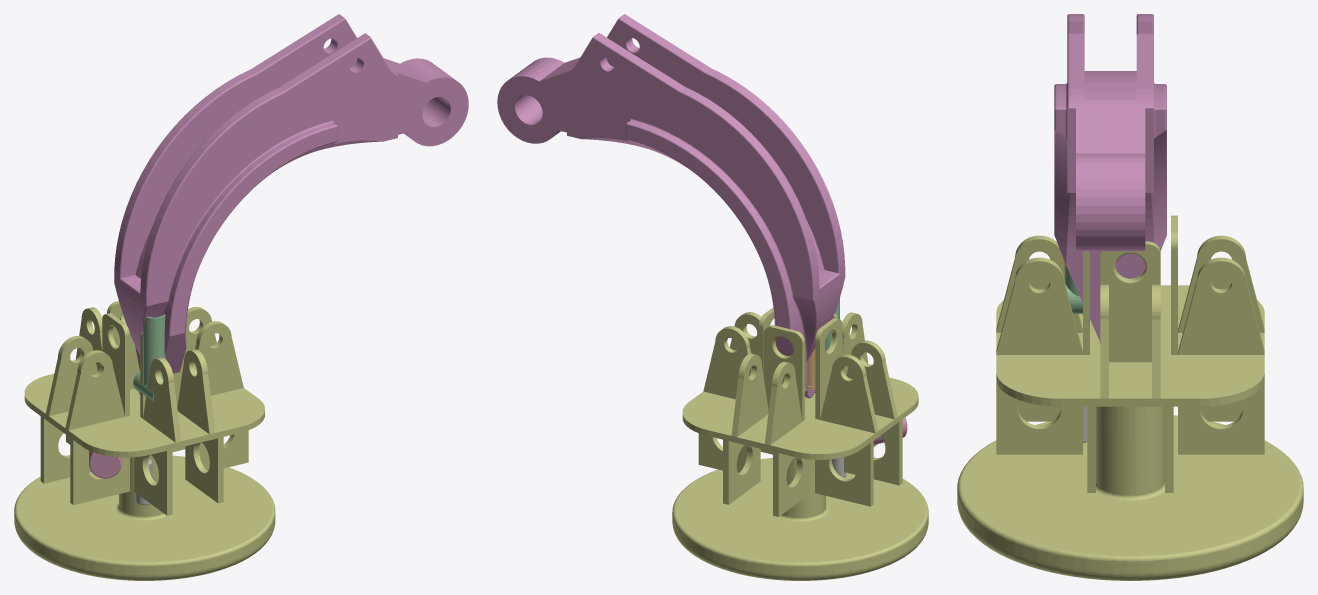
Rendered from case-03_claude48.glb.
The picture shows the model from 3 angles, left to right: view 1: azimuth 30°, elevation 25°; view 2: azimuth 150°, elevation 25°; view 3: azimuth 270°, elevation 25°; orthographic projection. The views are drawn at different scales.
Visible parts, largest first — view 1: c00001, c00002, c00004, c00007; view 2: c00001, c00002; view 3: c00001, c00002, c00004.
Part boxes in pixels (bbox=[...]): c00001: bbox=[14, 301, 275, 580]; c00002: bbox=[114, 14, 468, 373]; c00004: bbox=[133, 314, 175, 400]; c00007: bbox=[89, 451, 121, 478]; c00001: bbox=[672, 307, 928, 580]; c00002: bbox=[497, 14, 845, 398]; c00001: bbox=[957, 215, 1303, 580]; c00002: bbox=[1054, 14, 1166, 343]; c00004: bbox=[1064, 262, 1082, 313].
Bounding box in the file's own units: 1473 × 1553 × 800.
